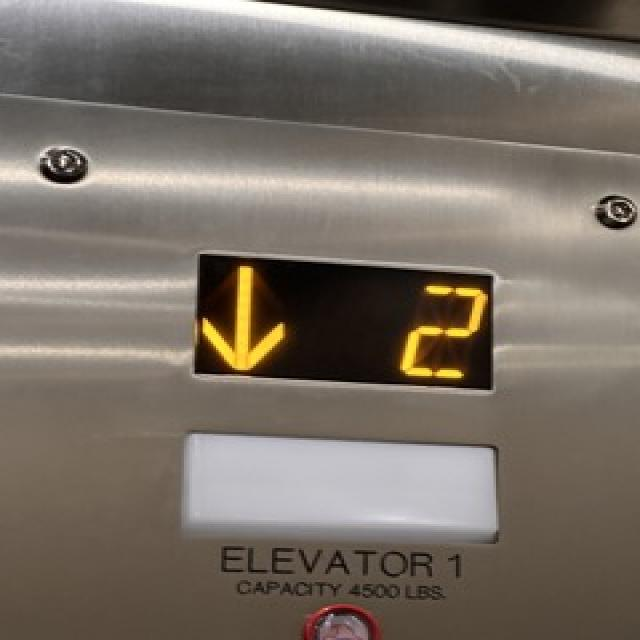box: (187, 240, 501, 402)
